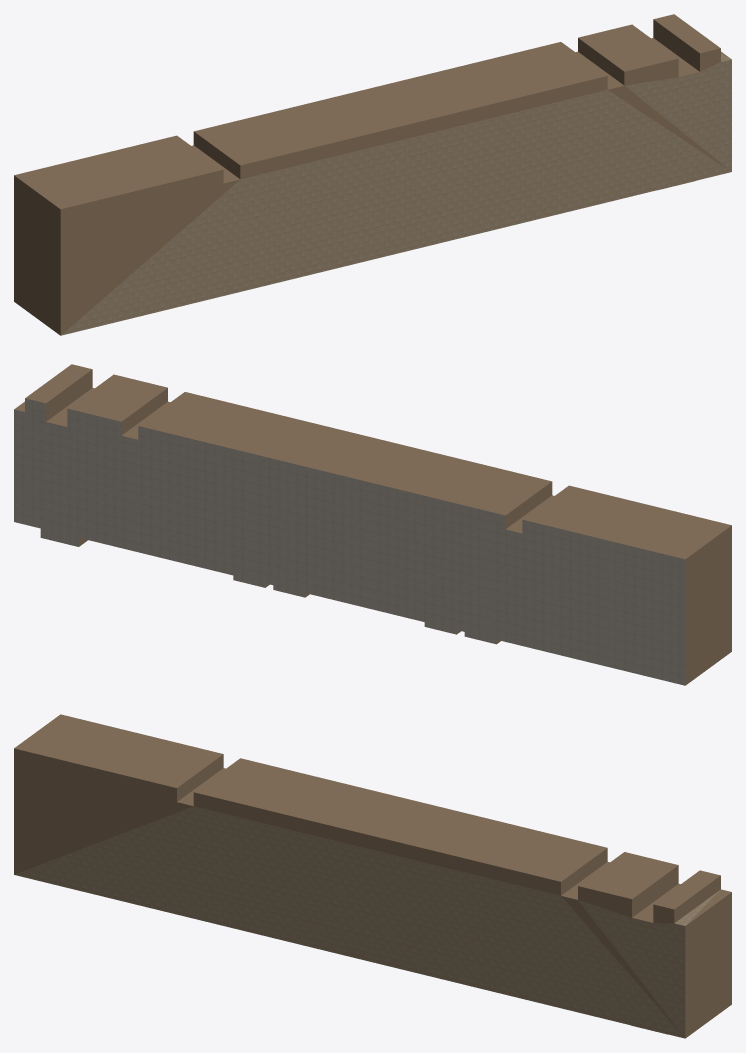
Rendered from hallway.obj.
3 views of the same model, one above another, from view 1: azimuth 30°, elevation 25°; view 2: azimuth 150°, elevation 25°; view 3: azimuth 330°, elevation 25° (orthographic).
Parts seen in each view (by area): view 1: Hallway_V1.004; view 2: Hallway_V1, Hallway_V1.004; view 3: Hallway_V1.004.
Boxes of the visible parts, box(x1,y1,x2,y2) form: Hallway_V1.004: box(14, 14, 731, 335); Hallway_V1: box(14, 398, 685, 685); Hallway_V1.004: box(14, 364, 731, 685); Hallway_V1.004: box(14, 714, 731, 1038).
Size of the model in its own units: 24.95 by 4.82 by 3.
5 materials, 4 textured.
